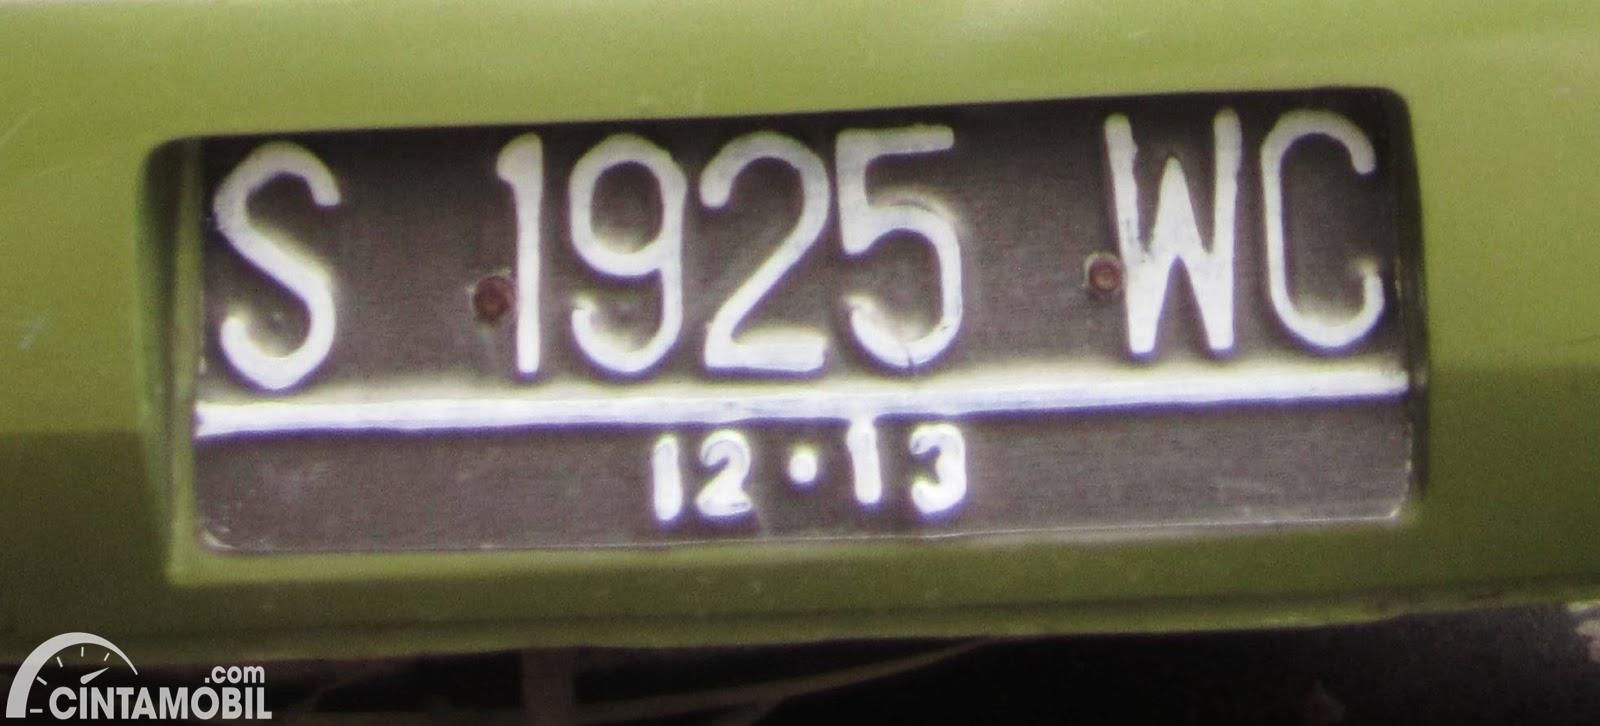1: (472, 128, 564, 386)
2: (696, 126, 840, 382)
5: (838, 115, 969, 381)
9: (560, 127, 697, 383)
C: (1255, 99, 1395, 362)
S: (188, 131, 371, 386)
W: (1088, 95, 1255, 364)
